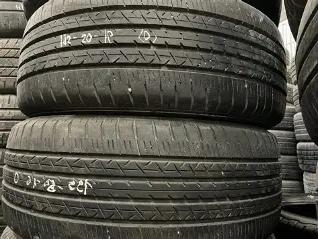ROAD_OBSTACLE: (3, 115, 283, 239), (18, 0, 288, 120)
